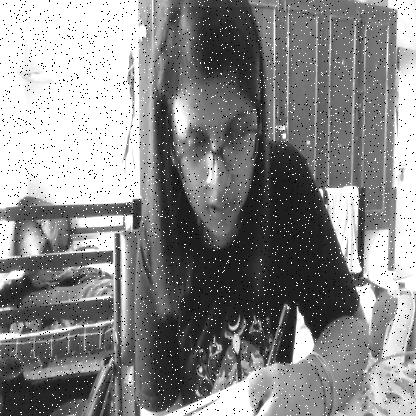Normal: (161, 7, 263, 256)
